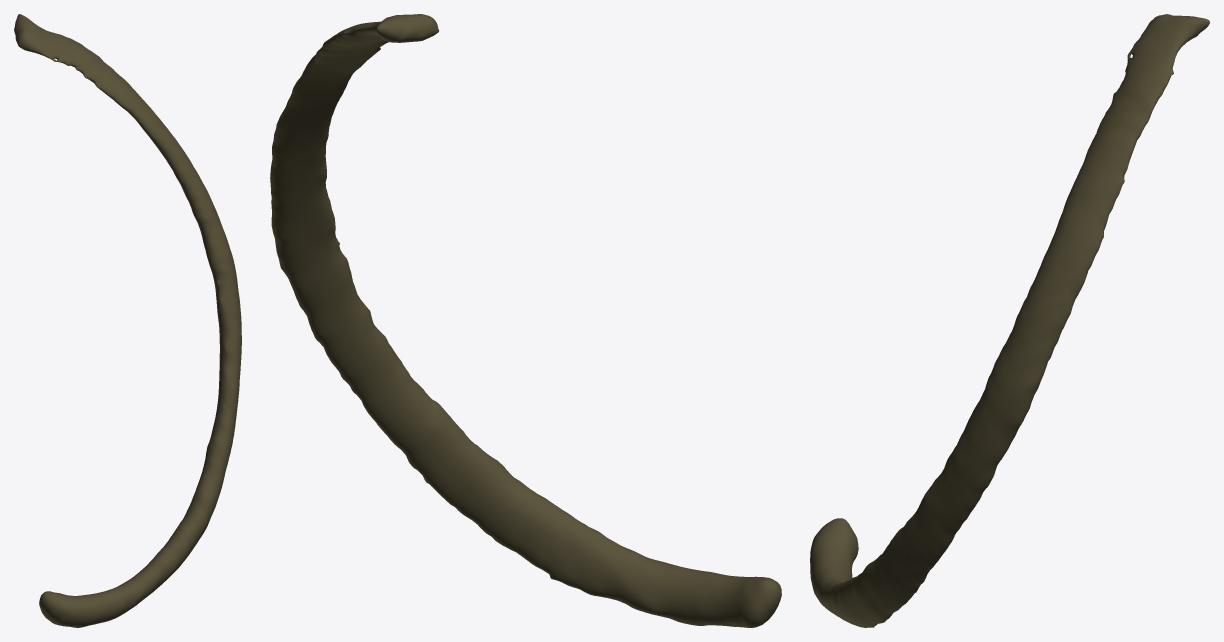
Rendered from segmentations_rib_right_3.obj.
3 renders of one model, left to right at view 1: azimuth 30°, elevation 25°; view 2: azimuth 150°, elevation 25°; view 3: azimuth 270°, elevation 25°, orthographic. The views are drawn at different scales.
Parts seen in each view (by area): view 1: grp1; view 2: grp1; view 3: grp1.
Part boxes in pixels (x1,y1,x2,y2): grp1: (14,14,241,627); grp1: (270,14,781,627); grp1: (810,14,1209,627).
Size of the model in its own units: 55.66 by 99.01 by 57.37.
